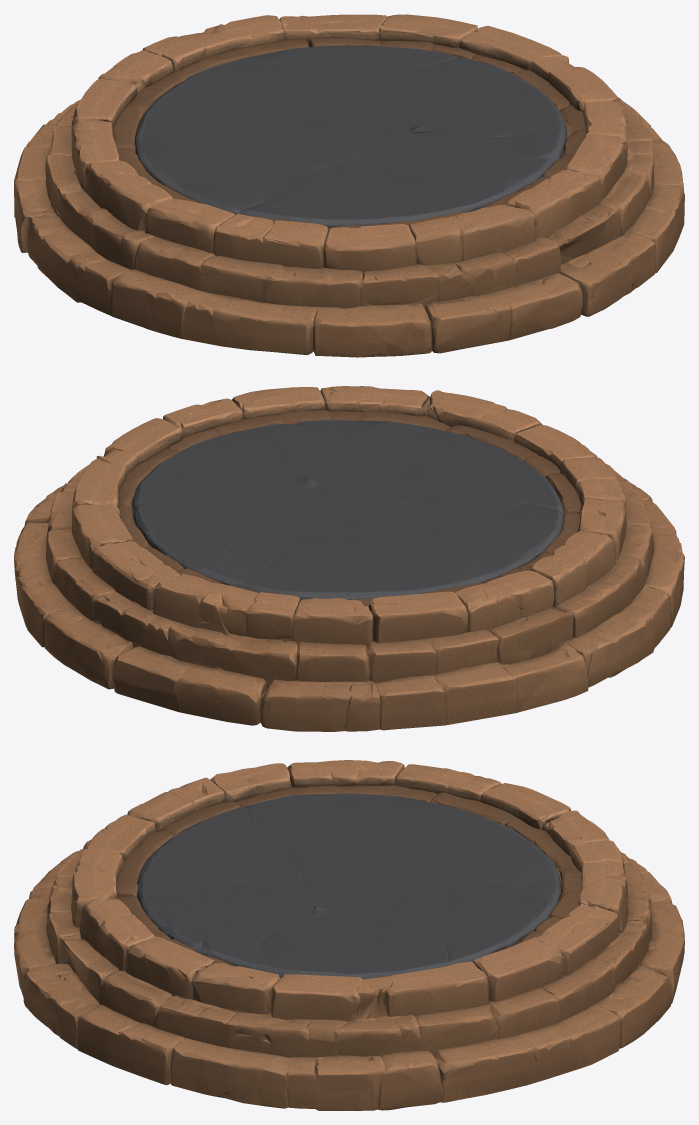
Rendered from pad.glb.
The picture shows the model from 3 angles, top to bottom: view 1: azimuth 30°, elevation 25°; view 2: azimuth 150°, elevation 25°; view 3: azimuth 270°, elevation 25°; orthographic projection.
Bounding box in the file's own units: 1.9 × 0.3028 × 1.9.
Materials: 1 (1 with a texture image).
